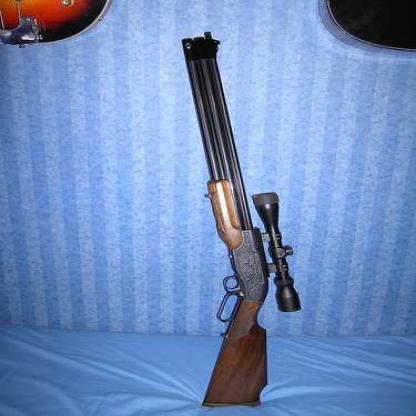rifle: (154, 20, 337, 415)
